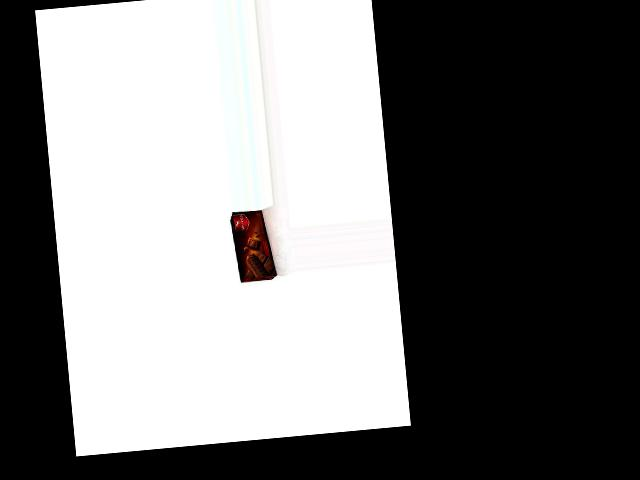chocolate: (229, 208, 278, 282)
